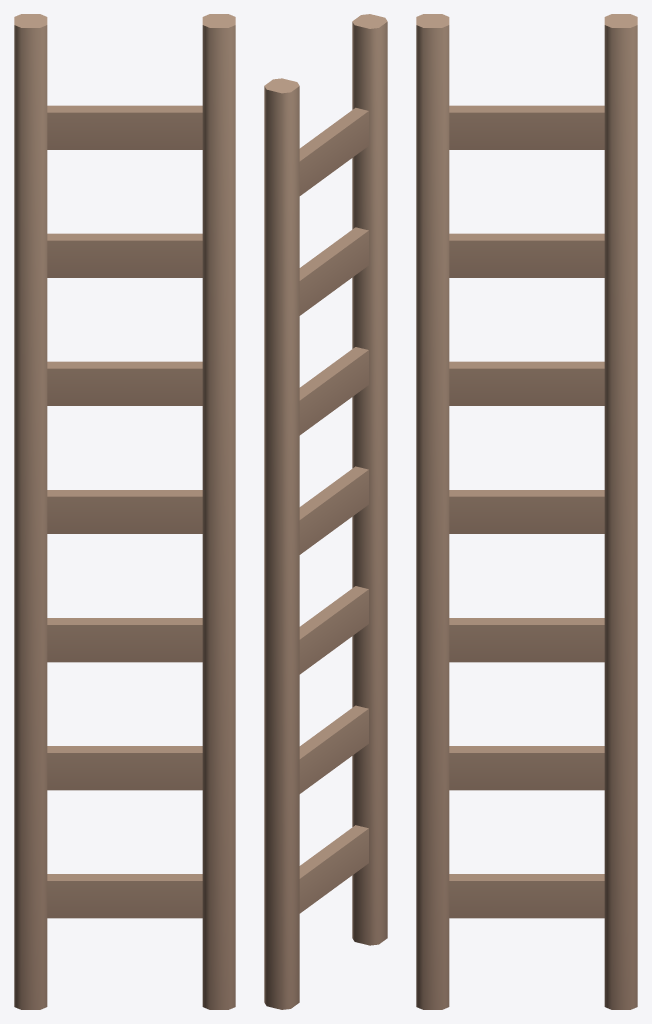
Rendered from ladder.glb.
3 renders of one model, left to right at view 1: azimuth 90°, elevation 25°; view 2: azimuth 150°, elevation 25°; view 3: azimuth 270°, elevation 25°, orthographic. The views are drawn at different scales.
Visible parts, largest first — view 1: ladder; view 2: ladder; view 3: ladder.
Boxes of the visible parts, left/top/right/bottom form: ladder: left=14, top=14, right=235, bottom=1009; ladder: left=264, top=14, right=387, bottom=1009; ladder: left=416, top=14, right=637, bottom=1009.
Bounding box in the file's own units: 0.07 × 2.3 × 0.47.
